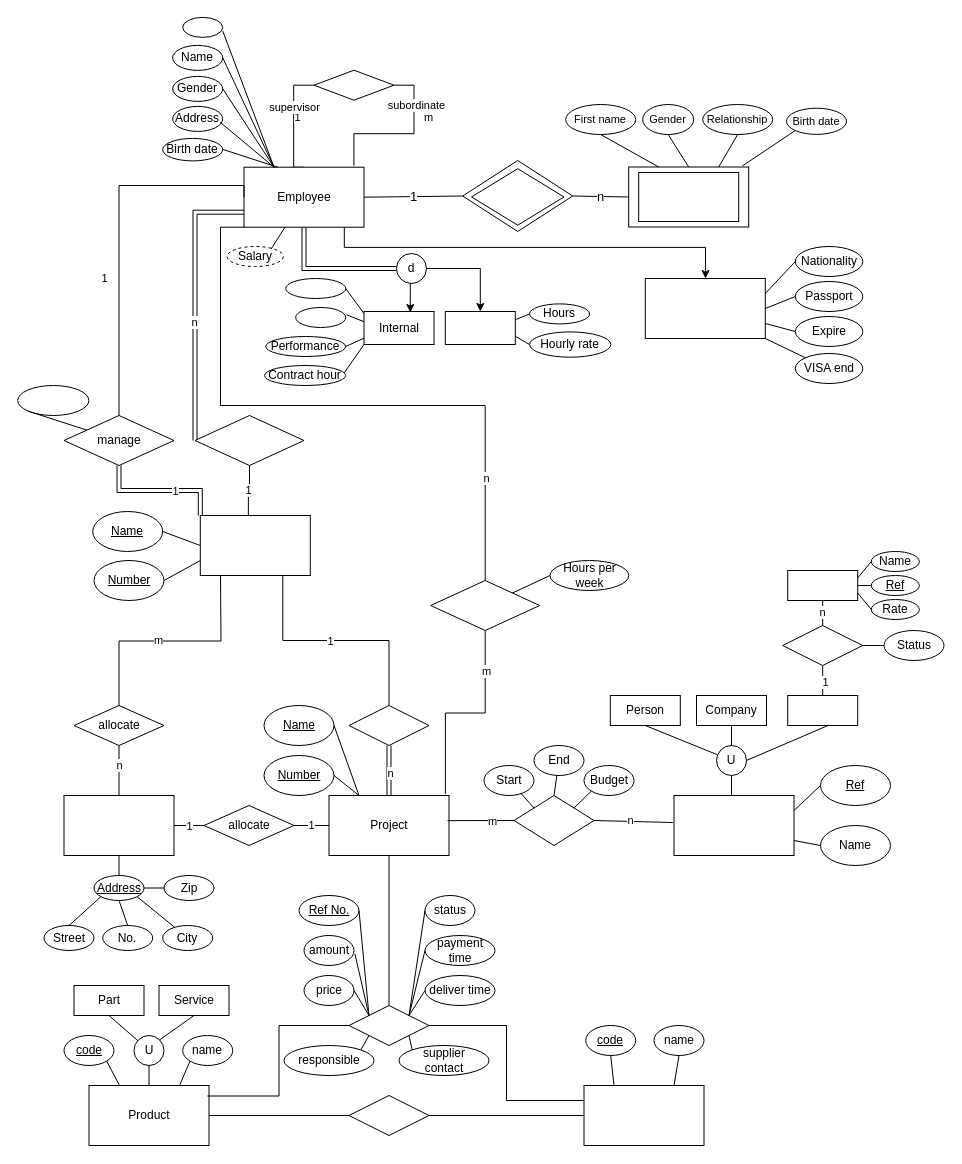
Some shapes in this 962 by 1164 pixel diagram are drawn without their labels. Each missing label, with the centre of its shape:
"assign" belongs at (x=249, y=440).
"Certificate" belongs at (x=822, y=585).
"contract" belongs at (x=553, y=820).
"control" belongs at (x=388, y=725).
"Customer" belongs at (x=733, y=825).
"Department" belongs at (x=254, y=545).
"dependent" belongs at (x=517, y=196).
"External" belongs at (x=479, y=327).
"Family menmber" belongs at (x=688, y=197).
"Foreign employee" belongs at (x=704, y=308).
"Goverment" belongs at (x=822, y=710).
"ID" belongs at (x=202, y=26).
"Location" belongs at (x=118, y=825).
"order" belongs at (x=388, y=1025).
"Position" belongs at (x=315, y=288).
"require" belongs at (x=822, y=645).
"sell" belongs at (x=388, y=1115).
"since" belongs at (x=53, y=400).
"supervise" belongs at (x=353, y=84).
"Supplier" belongs at (x=643, y=1115).
"work" belongs at (x=485, y=605).
"Years" belongs at (x=320, y=317).
